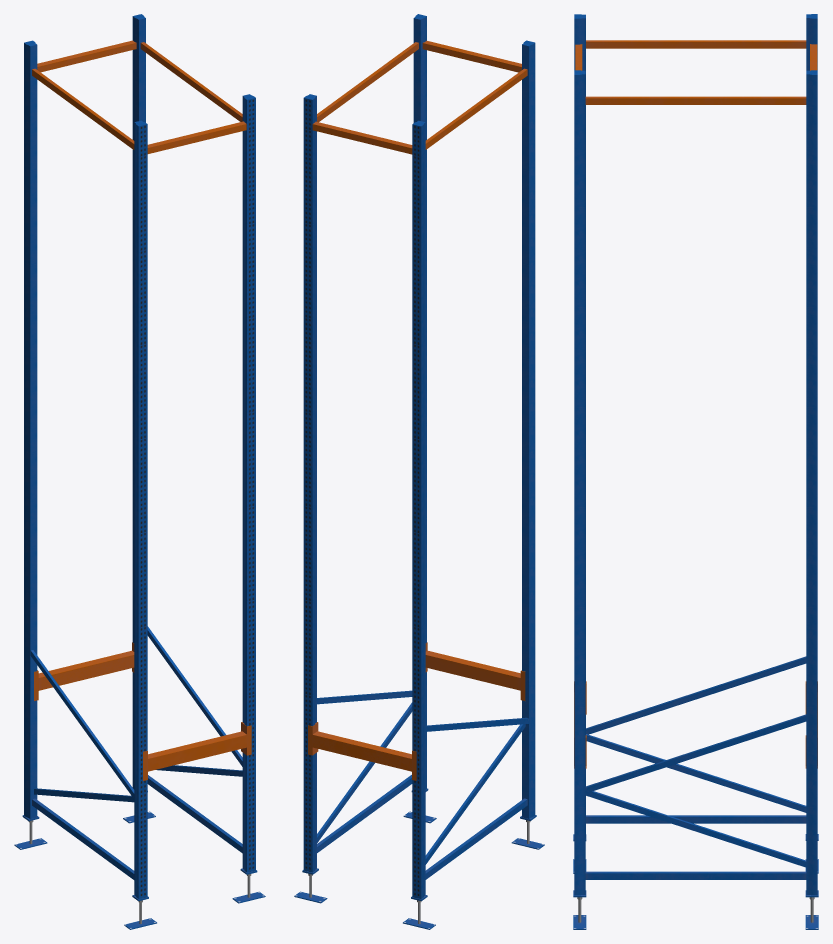
Rendered from Shelf.glb.
The picture shows the model from 3 angles, left to right: view 1: azimuth 30°, elevation 25°; view 2: azimuth 150°, elevation 25°; view 3: azimuth 270°, elevation 25°; orthographic projection. The views are drawn at different scales.
Parts seen in each view (by area): view 1: Box003.6, Box002.5, Box004.3, Box001.4, Box031.18, Box032.13, Box007.11, Box008.8, Box006.10, Box022.12, Box020.7, Box021.2 (+2 smaller); view 2: Box002.5, Box003.6, Box001.4, Box004.3, Box032.13, Box031.18, Box007.11, Box008.8, Box022.12, Box006.10, Box020.7, Box023.1 (+2 smaller); view 3: Box004.3, Box001.4, Box008.8, Box007.11, Box020.7, Box005.9, Box022.12, Box006.10, Box003.6, Box002.5.
Boxes of the visible parts, <box> form: Box003.6: <box>132,120,148,901</box>; Box002.5: <box>22,40,39,821</box>; Box004.3: <box>240,94,257,874</box>; Box001.4: <box>132,14,147,791</box>; Box031.18: <box>143,722,251,780</box>; Box032.13: <box>34,642,134,700</box>; Box007.11: <box>30,650,134,802</box>; Box008.8: <box>147,626,242,776</box>; Box006.10: <box>32,798,134,879</box>; Box022.12: <box>32,68,134,149</box>; Box020.7: <box>140,42,242,121</box>; Box021.2: <box>147,121,246,153</box>; Box002.5: <box>411,120,427,901</box>; Box003.6: <box>520,40,536,820</box>; Box001.4: <box>302,94,318,874</box>; Box004.3: <box>411,14,428,791</box>; Box032.13: <box>308,722,416,780</box>; Box031.18: <box>425,642,525,701</box>; Box007.11: <box>425,717,528,864</box>; Box008.8: <box>317,690,412,842</box>; Box022.12: <box>425,68,527,149</box>; Box006.10: <box>425,798,527,879</box>; Box020.7: <box>317,42,418,122</box>; Box023.1: <box>312,121,412,154</box>; Box004.3: <box>573,70,586,897</box>; Box001.4: <box>805,70,818,897</box>; Box008.8: <box>585,714,806,867</box>; Box007.11: <box>586,656,806,812</box>; Box020.7: <box>585,96,806,104</box>; Box005.9: <box>585,871,806,879</box>; Box022.12: <box>586,40,806,48</box>; Box006.10: <box>586,815,806,823</box>; Box003.6: <box>573,14,586,841</box>; Box002.5: <box>805,14,818,840</box>.
Size of the model in its own units: 801 by 4525 by 1183.
Materials: 18 (18 with a texture image).
